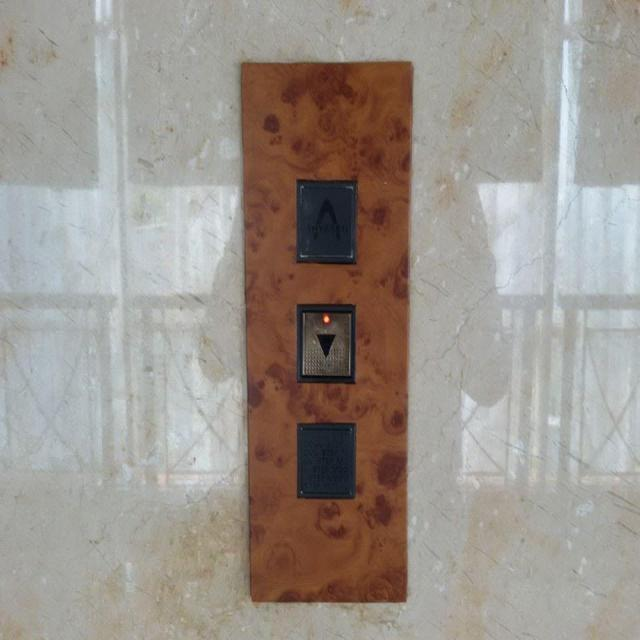down: (293, 298, 356, 386)
empty: (293, 417, 357, 499)
up: (292, 174, 359, 266)
